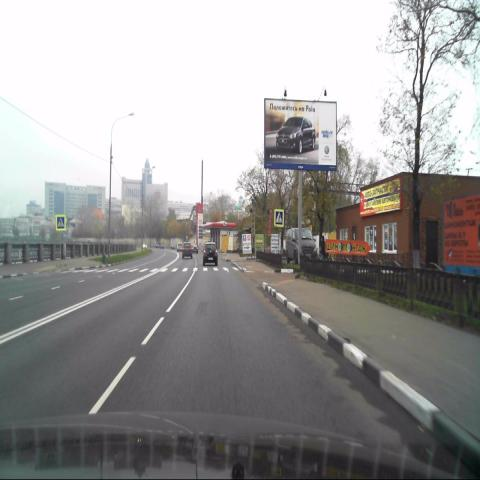5_19_1: (274, 209, 284, 227), (56, 214, 66, 230)
